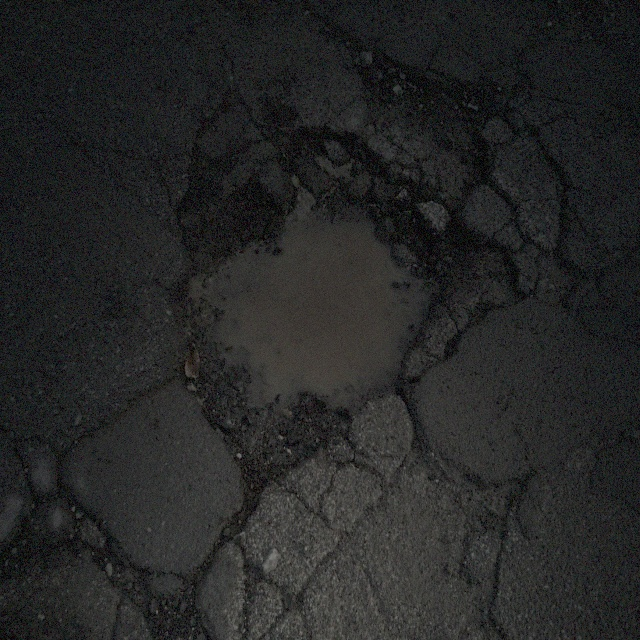pothole: (171, 131, 471, 487)
